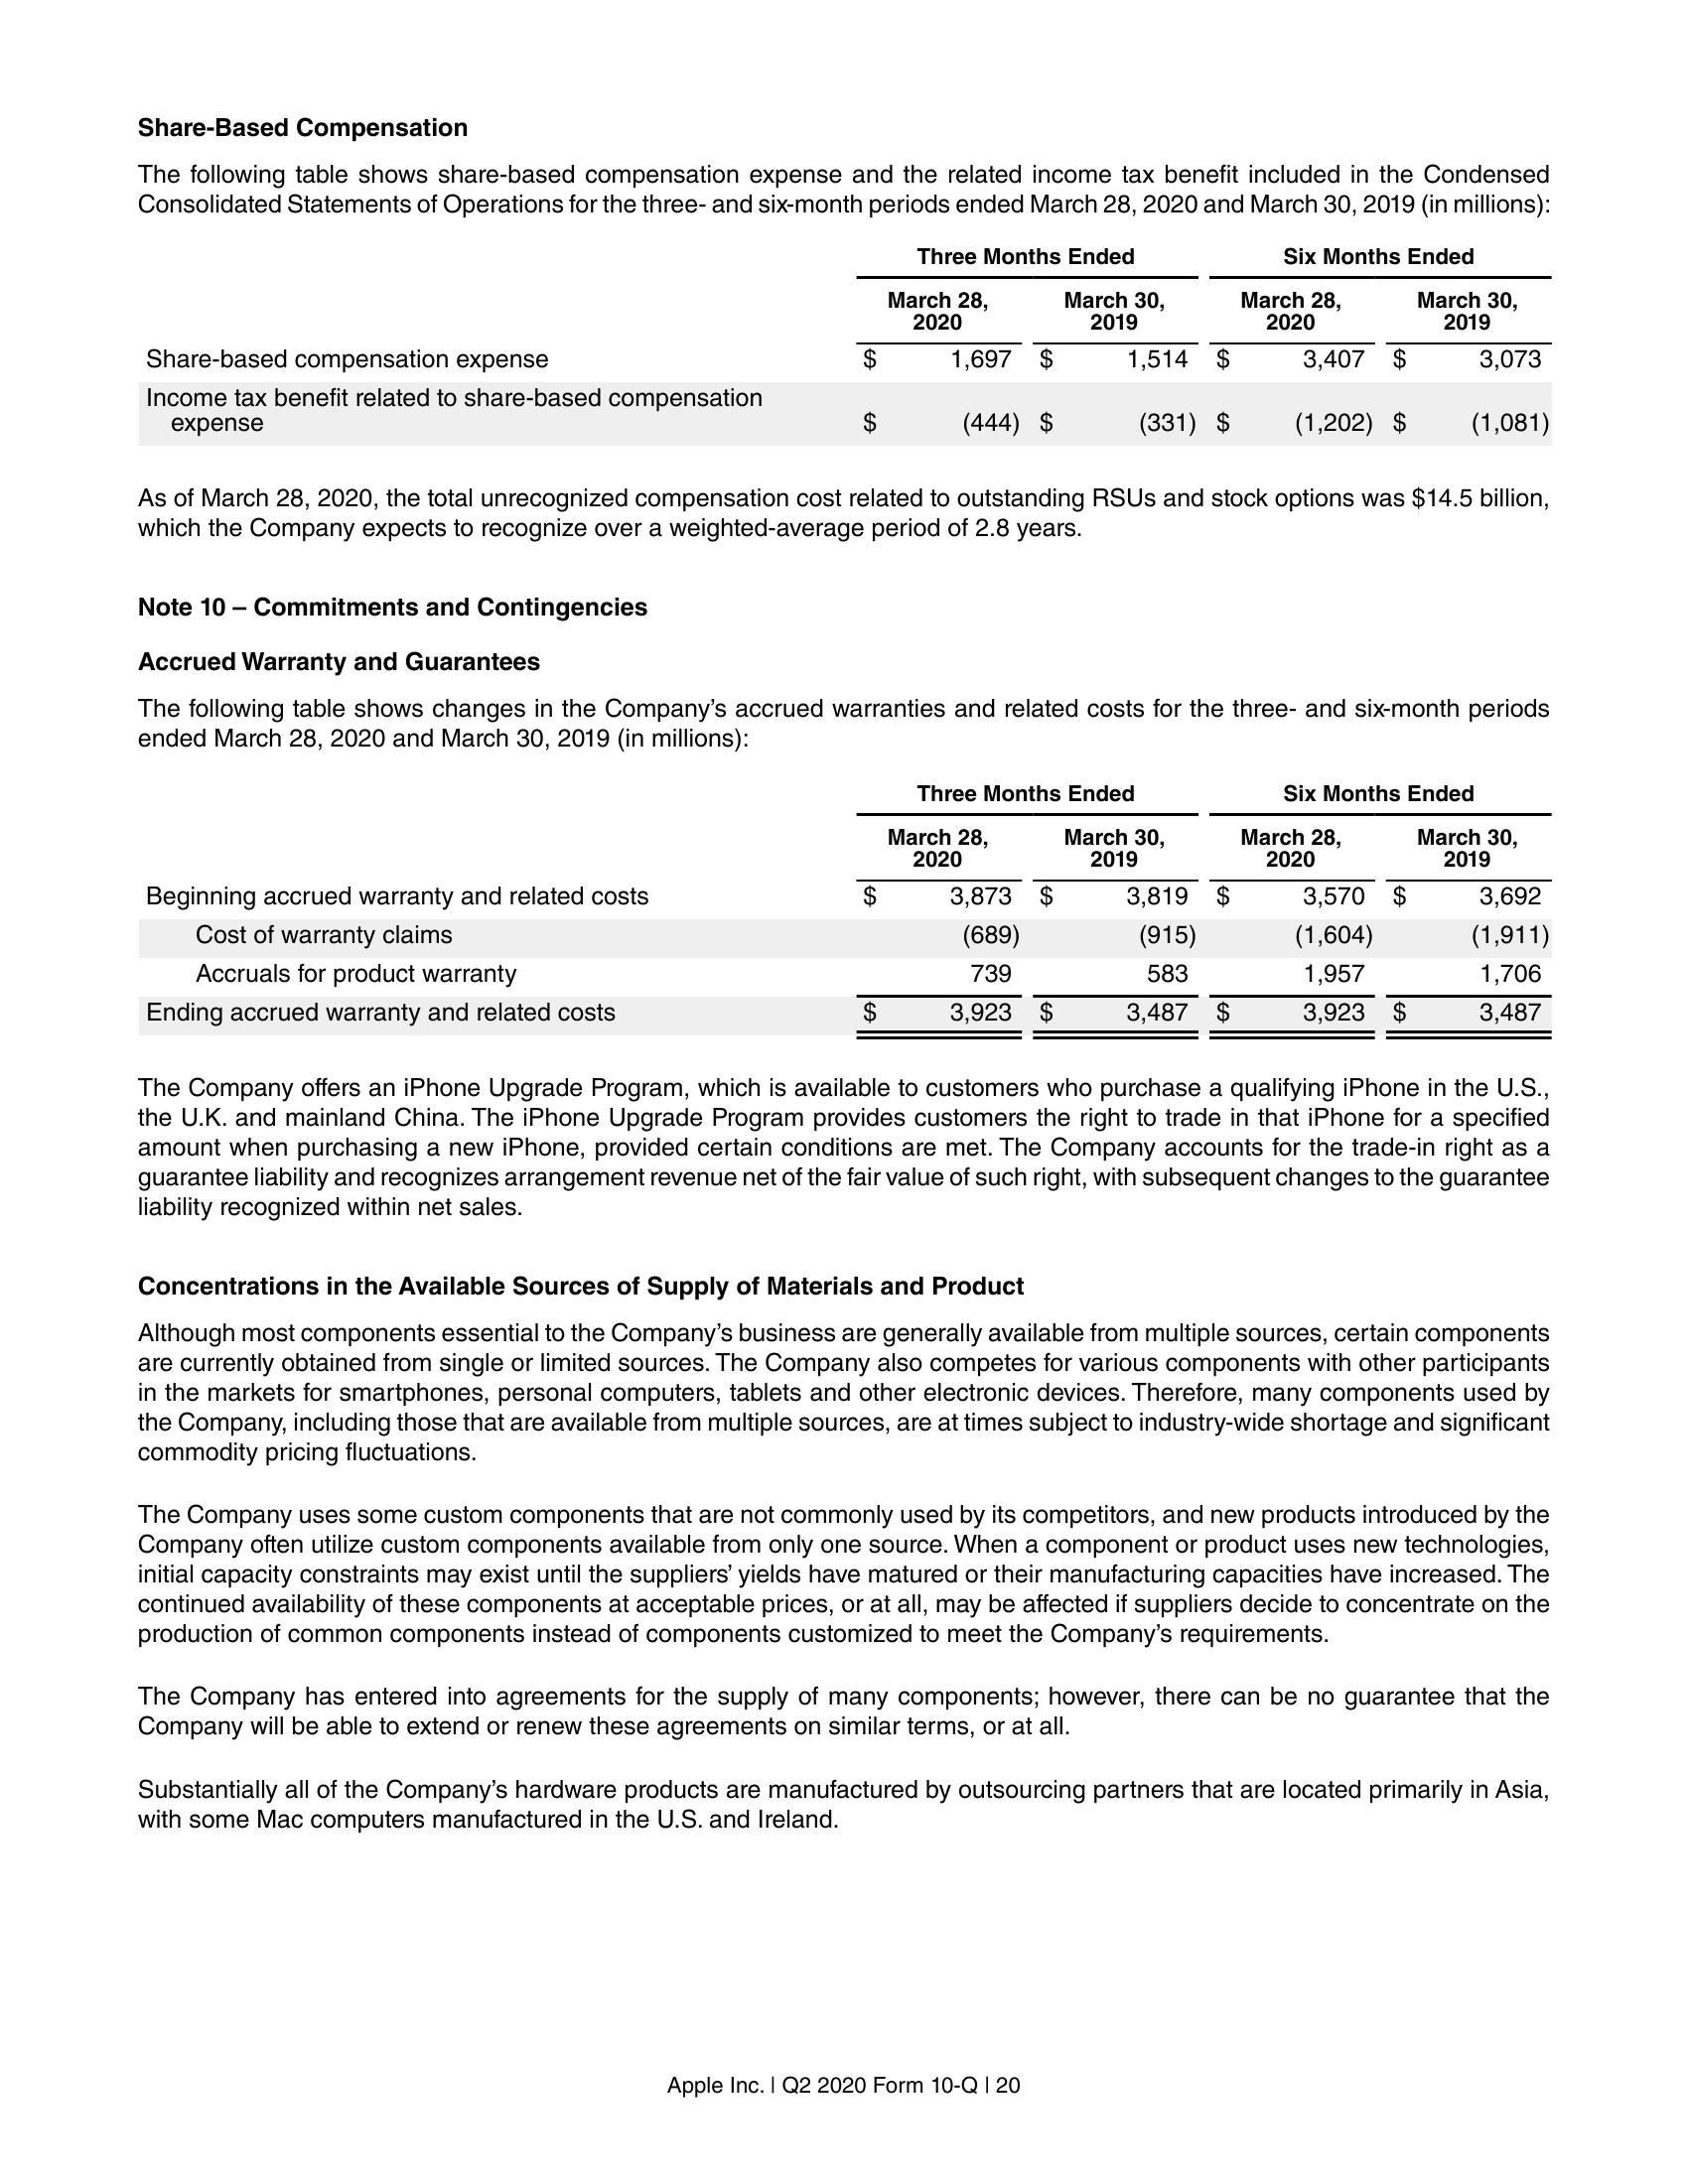table: (144, 775, 1557, 1042), (131, 239, 1559, 454)
